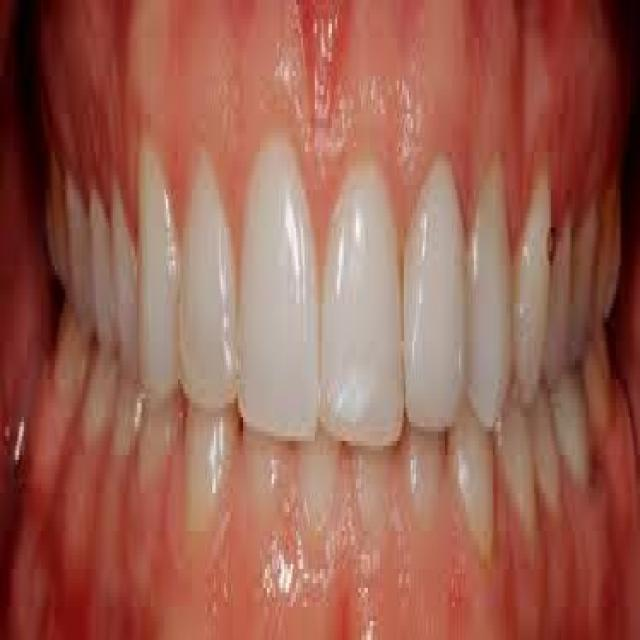tooth: (318, 156, 409, 464), (236, 133, 320, 460), (406, 133, 467, 441), (174, 142, 240, 417), (132, 118, 181, 403), (471, 142, 510, 432), (512, 161, 548, 413), (103, 161, 140, 375), (548, 175, 572, 394), (573, 161, 594, 384)
